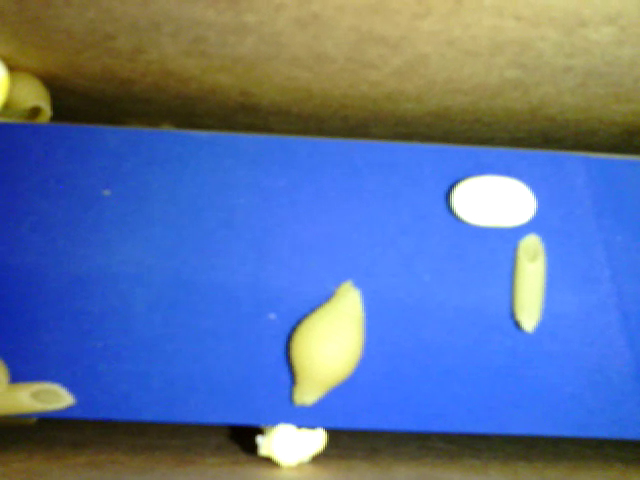penne: (516, 229, 548, 335), (2, 382, 75, 412)
shell: (287, 276, 369, 407), (4, 67, 56, 126)
